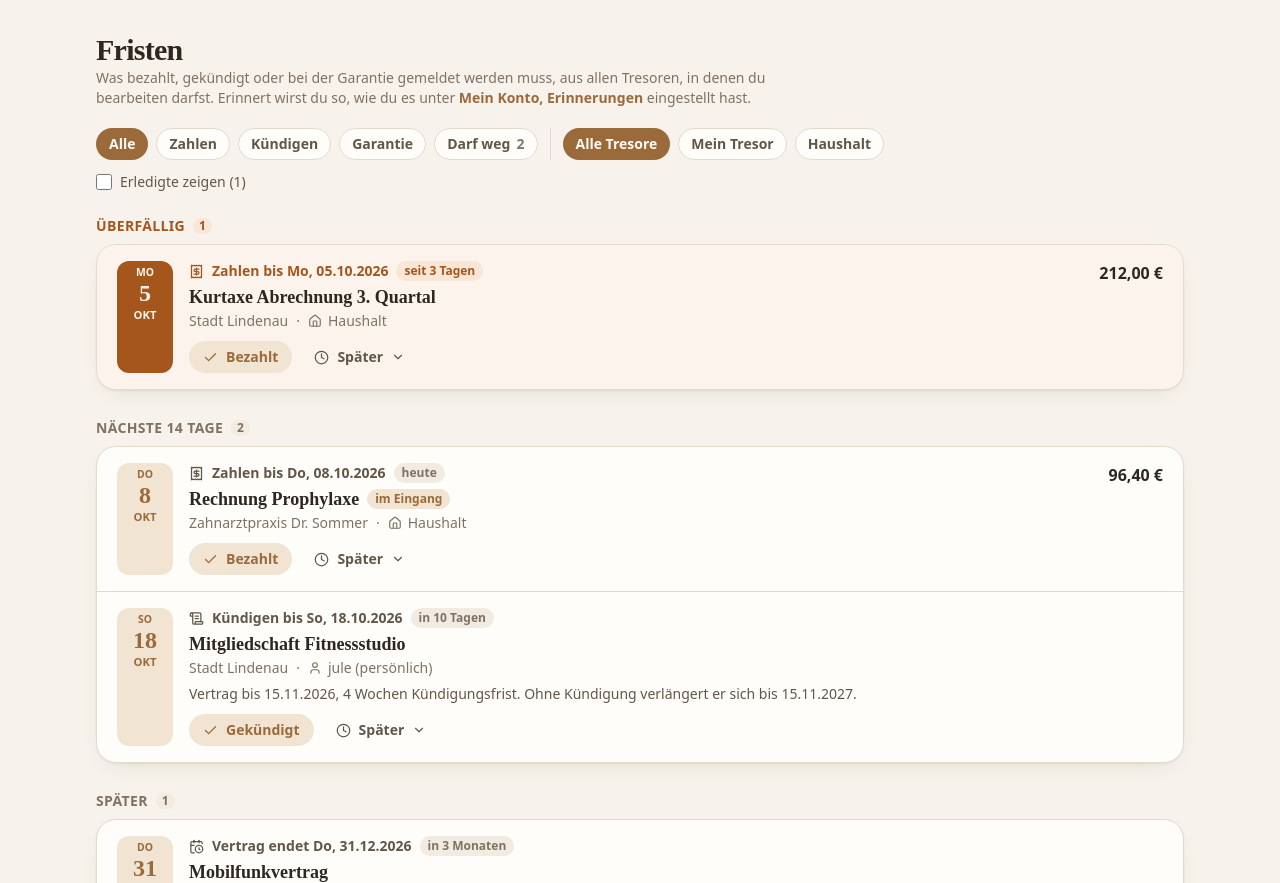
Scenario: may go ("Darf weg") on the deadlines page › follows the vault chosen on the page, and a share alone has none
Click the button "Darf weg 2" at coordinates (486, 144), box [434,128,538,160]
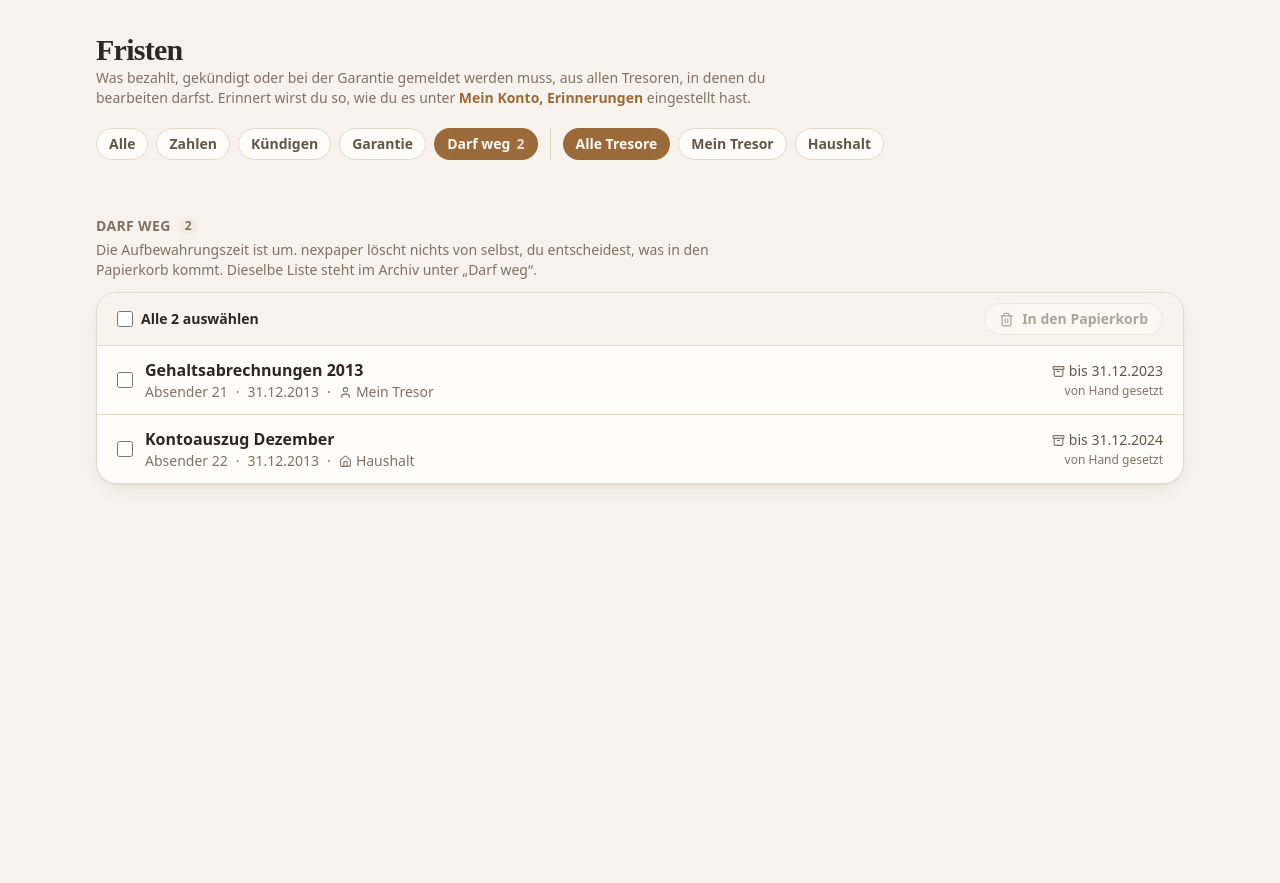
Click the button "Haushalt" at coordinates (839, 144), box [795,128,884,160]
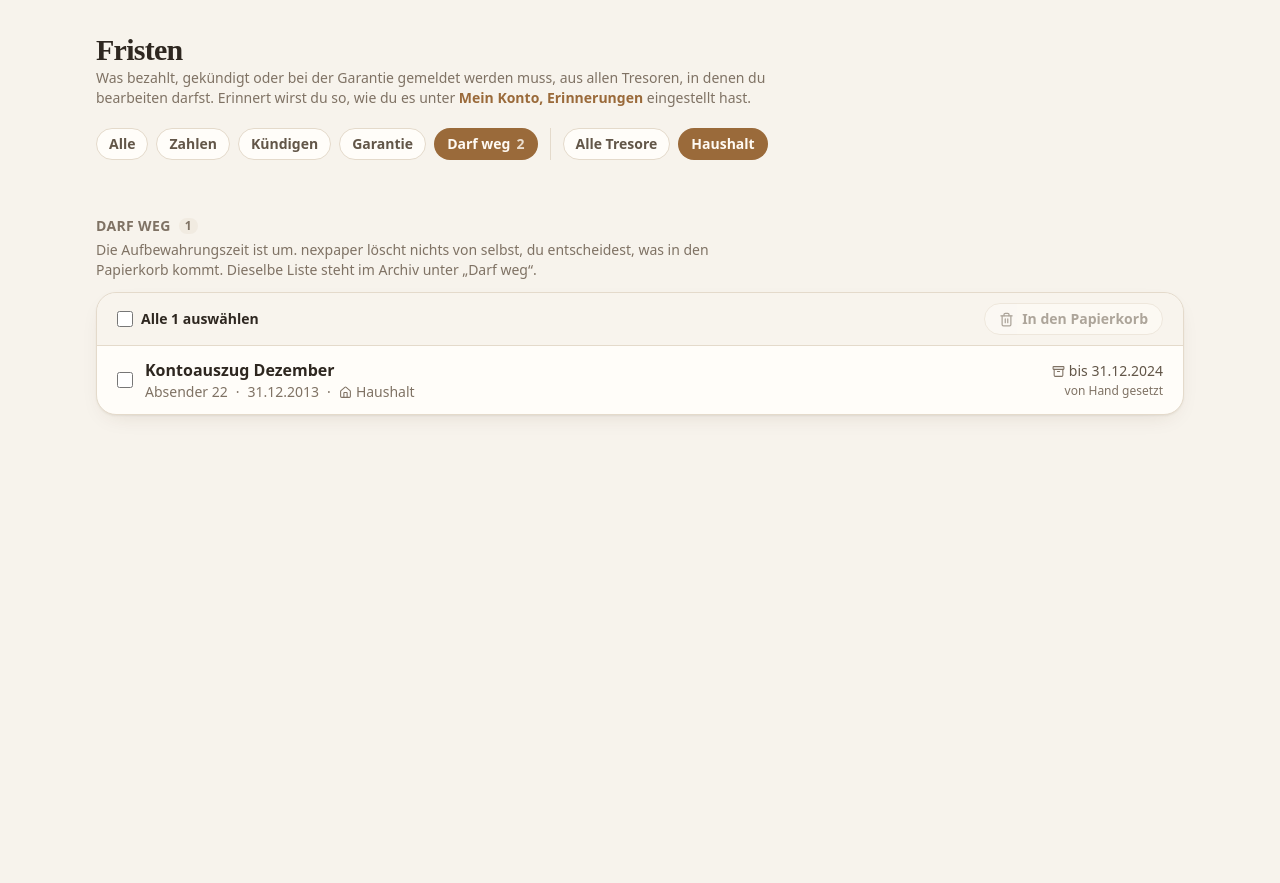
Expected: the text "Kontoauszug Dezember" is shown, [145,359,335,381]
Expected: the text "Gehaltsabrechnungen 2013" is gone
